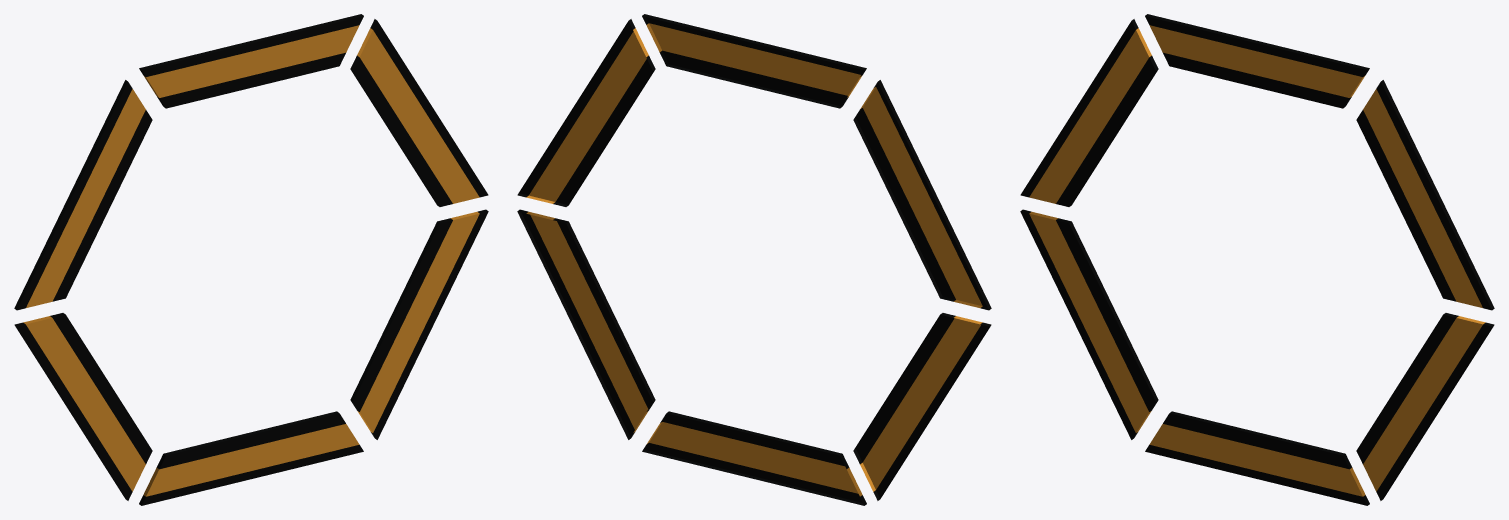
The model's file is SM_Marker_TeamRing_P2.obj.
3 views of the same model, side by side, from view 1: azimuth 30°, elevation 25°; view 2: azimuth 150°, elevation 25°; view 3: azimuth 330°, elevation 25° (orthographic).
Parts seen in each view (by area): view 1: SM_Marker_TeamRing_P2; view 2: SM_Marker_TeamRing_P2; view 3: SM_Marker_TeamRing_P2.
Part boxes in pixels (left/top/right/bottom): SM_Marker_TeamRing_P2: left=14, top=14, right=488, bottom=505; SM_Marker_TeamRing_P2: left=517, top=14, right=991, bottom=505; SM_Marker_TeamRing_P2: left=1020, top=14, right=1494, bottom=505.
Size of the model in its own units: 61.2 by 54 by 0.6.
